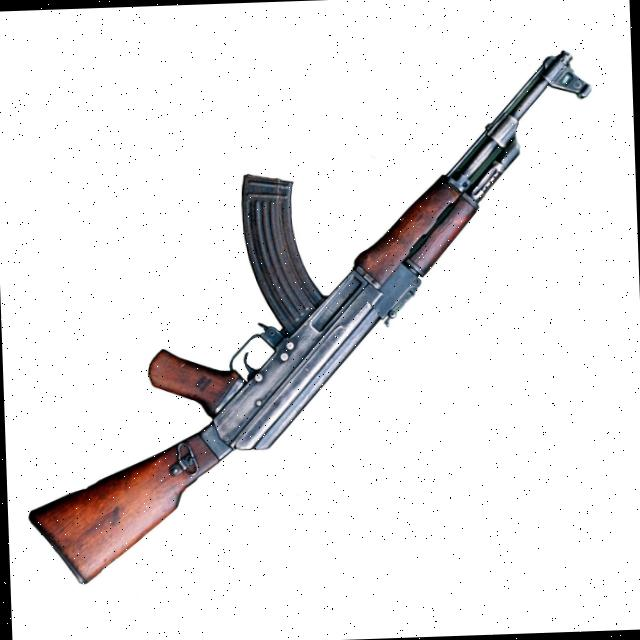Automaticrifle: (11, 36, 616, 590)
